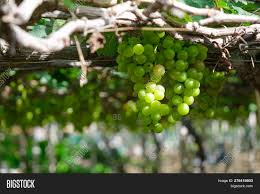grapes: (120, 40, 206, 127)
